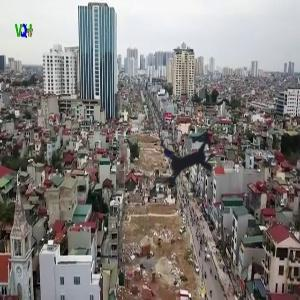drone: (121, 88, 259, 226)
